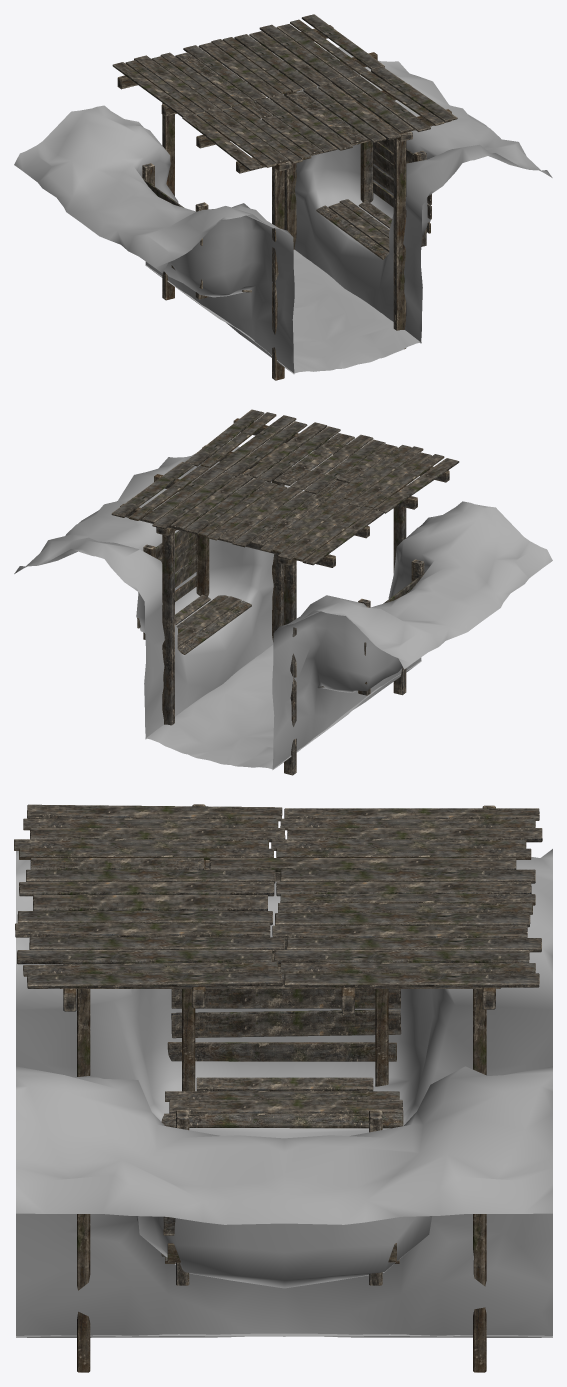
Rendered from Ground_Firebay_Double_Wood.fbx.
3 views of the same model, one above another, from view 1: azimuth 30°, elevation 25°; view 2: azimuth 150°, elevation 25°; view 3: azimuth 270°, elevation 25° (orthographic). The views are drawn at different scales.
Parts seen in each view (by area): view 1: Ground_Firebay_Double_Wood_LOD0; view 2: Ground_Firebay_Double_Wood_LOD0; view 3: Ground_Firebay_Double_Wood_LOD0.
Boxes of the visible parts, x1,y1,x2,y2 form: Ground_Firebay_Double_Wood_LOD0: (14,14,552,380); Ground_Firebay_Double_Wood_LOD0: (14,409,552,775); Ground_Firebay_Double_Wood_LOD0: (14,804,552,1372).
Size of what is drawn, in the model's own units: 627 by 345 by 401.
